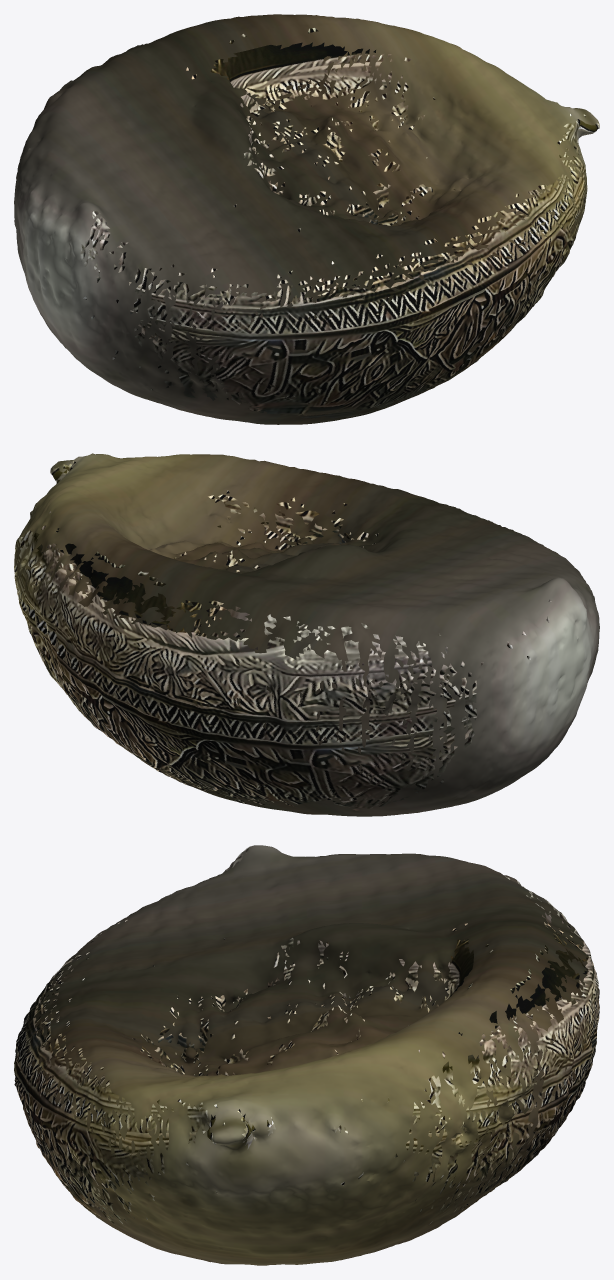
Rendered from kfl-2166.glb.
The picture shows the model from 3 angles, top to bottom: view 1: azimuth 30°, elevation 25°; view 2: azimuth 150°, elevation 25°; view 3: azimuth 270°, elevation 25°; orthographic projection. The views are drawn at different scales.
Parts seen in each view (by area): view 1: kfl-2166; view 2: kfl-2166; view 3: kfl-2166.
Boxes of the visible parts, x1,y1,x2,y2 form: kfl-2166: (14,14,599,424); kfl-2166: (14,453,599,816); kfl-2166: (14,845,599,1265).
Size of the model in its own units: 0.9914 by 0.4948 by 0.8707.
4 materials, 4 textured.
